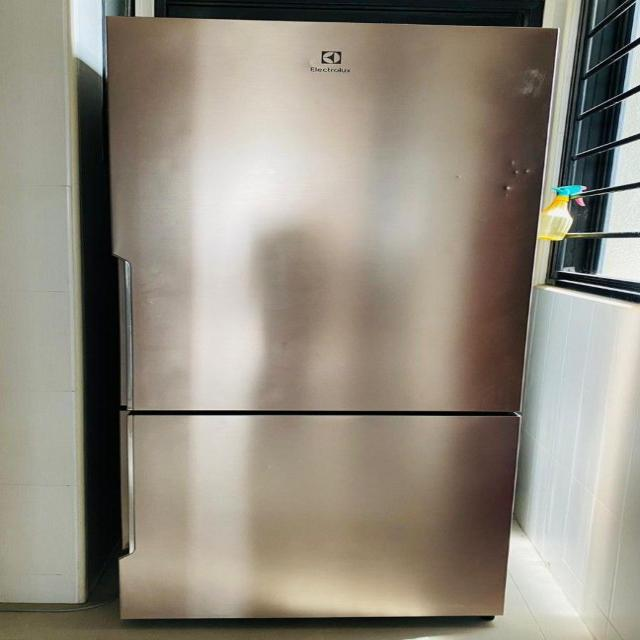refrigerator: (115, 20, 558, 624)
